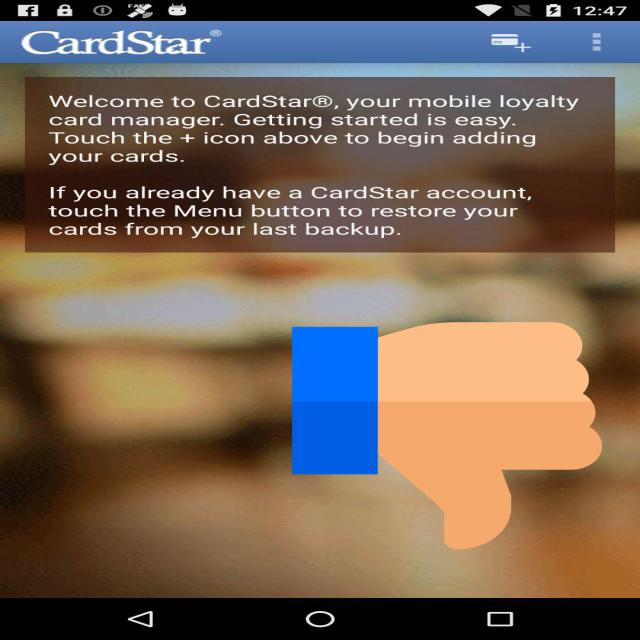obstruction: (292, 317, 602, 555)
